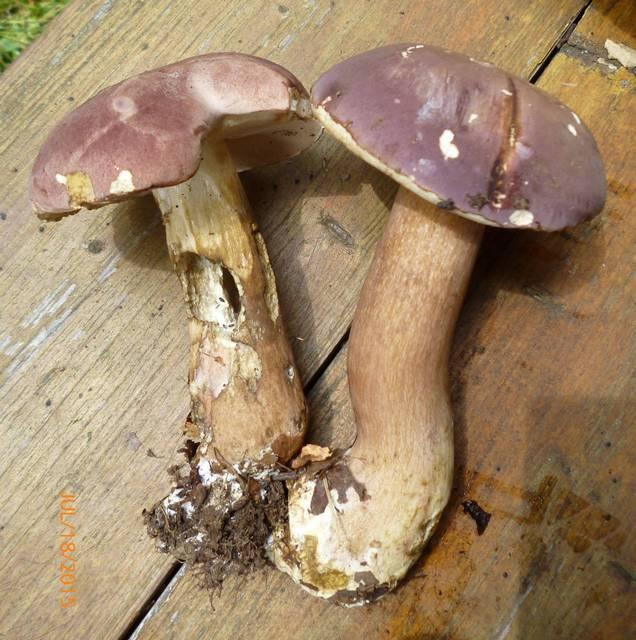Non-edible Mushroom: (260, 40, 607, 607), (27, 49, 322, 481)
